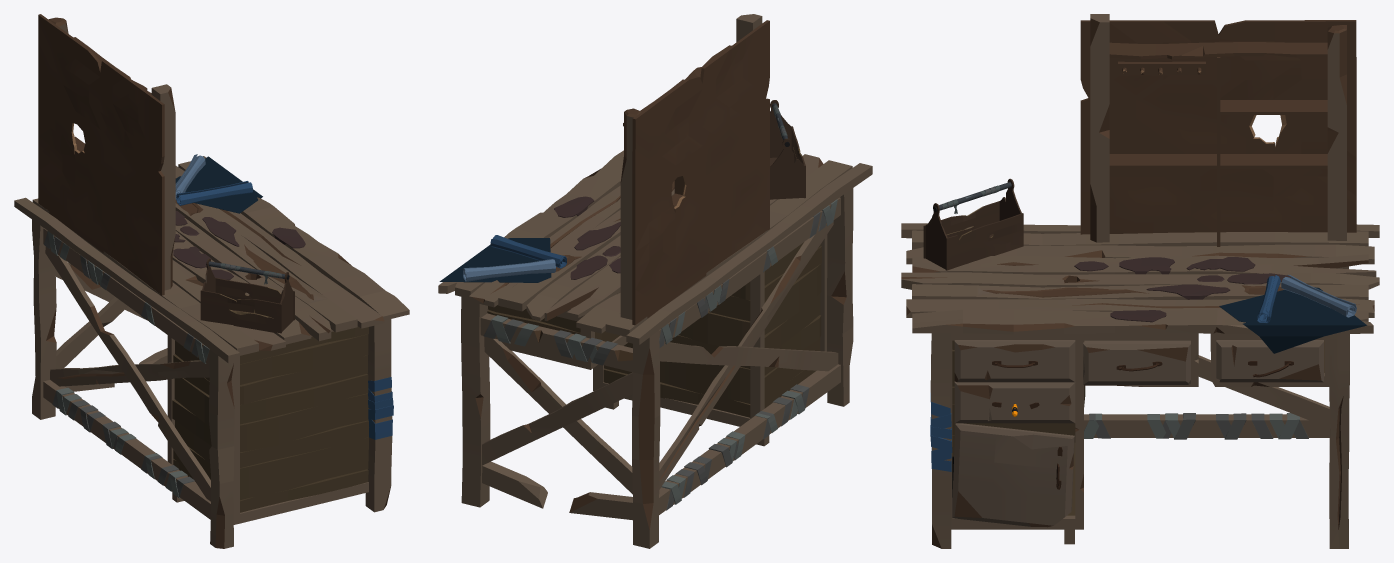
File: SM_Workbench.glb
3 views of the same model, side by side, from view 1: azimuth 30°, elevation 25°; view 2: azimuth 150°, elevation 25°; view 3: azimuth 270°, elevation 25° (orthographic). The views are drawn at different scales.
Parts seen in each view (by area): view 1: SM_Workbench; view 2: SM_Workbench; view 3: SM_Workbench.
Part boxes in pixels (x1,y1,x2,y2): SM_Workbench: (14,14,409,548); SM_Workbench: (438,14,872,548); SM_Workbench: (901,14,1379,548).
Bounding box in the file's own units: 0.9059 × 1.74 × 1.68.
Materials: 1 (1 with a texture image).
